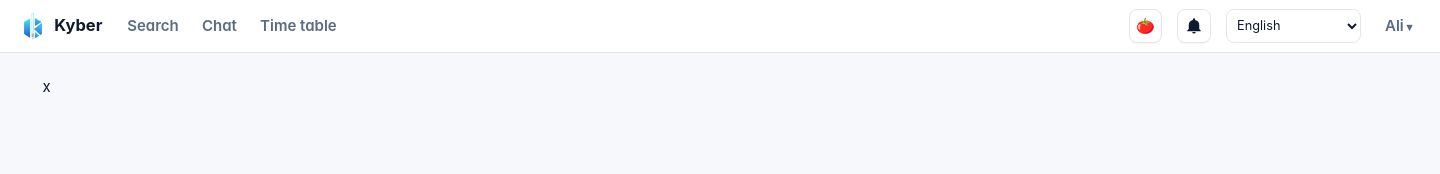
Test: Layout top bar › groups settings and log out in the user's menu
Click the heading "Ali". click: [1399, 26]
box: [1376,9,1421,43]
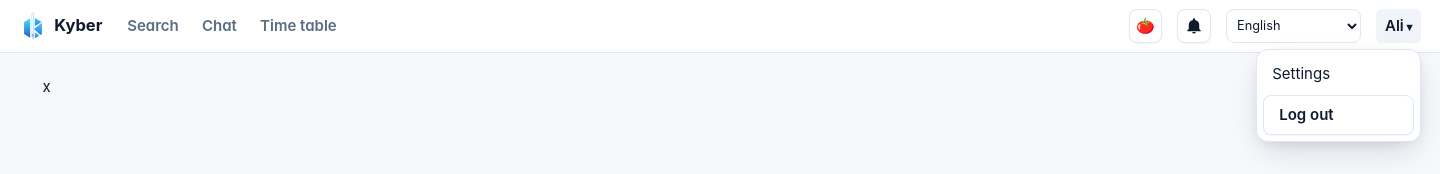
Check: the button "Log out" is shown, box [1263,95,1414,135]
